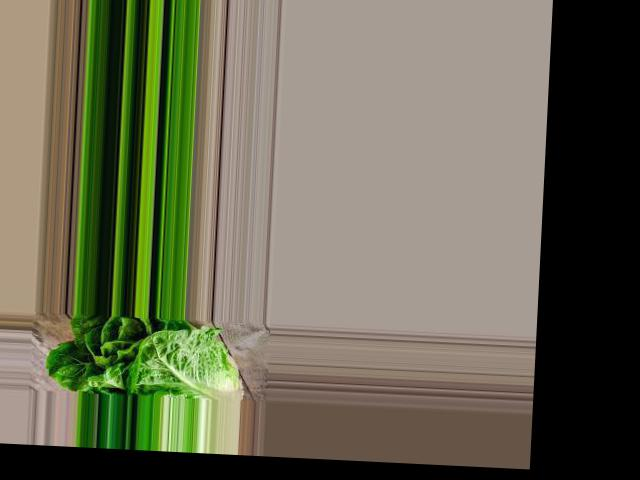lettuce: (56, 312, 241, 399)
